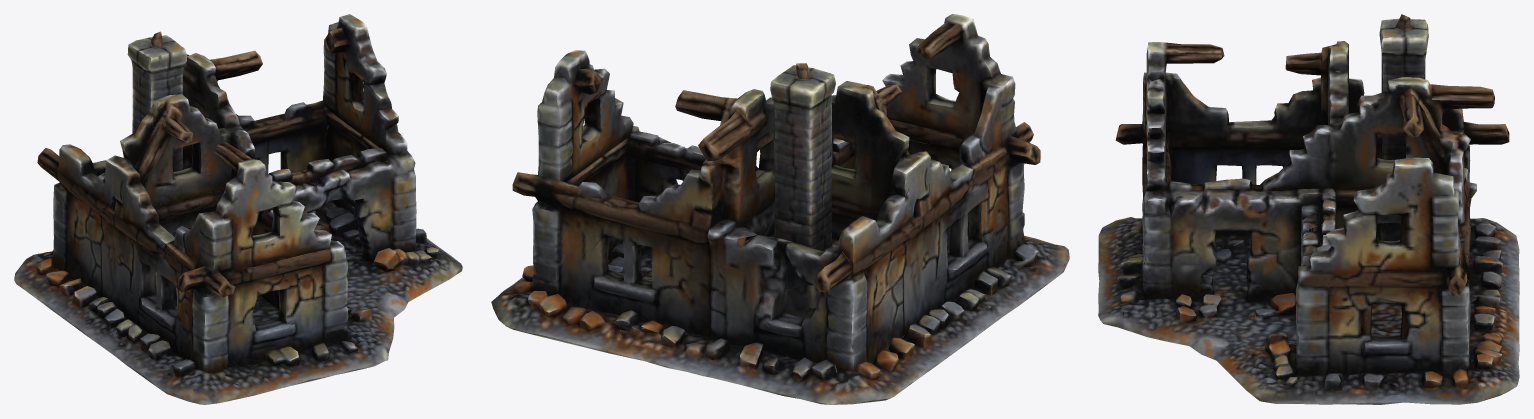
File: village_ash_b.glb
3 views of the same model, side by side, from view 1: azimuth 30°, elevation 25°; view 2: azimuth 150°, elevation 25°; view 3: azimuth 270°, elevation 25° (orthographic). The views are drawn at different scales.
Parts seen in each view (by area): view 1: world; view 2: world; view 3: world.
Boxes of the visible parts, x1,y1,x2,y2 form: world: (14,14,462,404); world: (491,14,1069,404); world: (1098,14,1519,404).
Bounding box in the file's own units: 1 × 0.6659 × 0.9642.
Materials: 1 (1 with a texture image).
